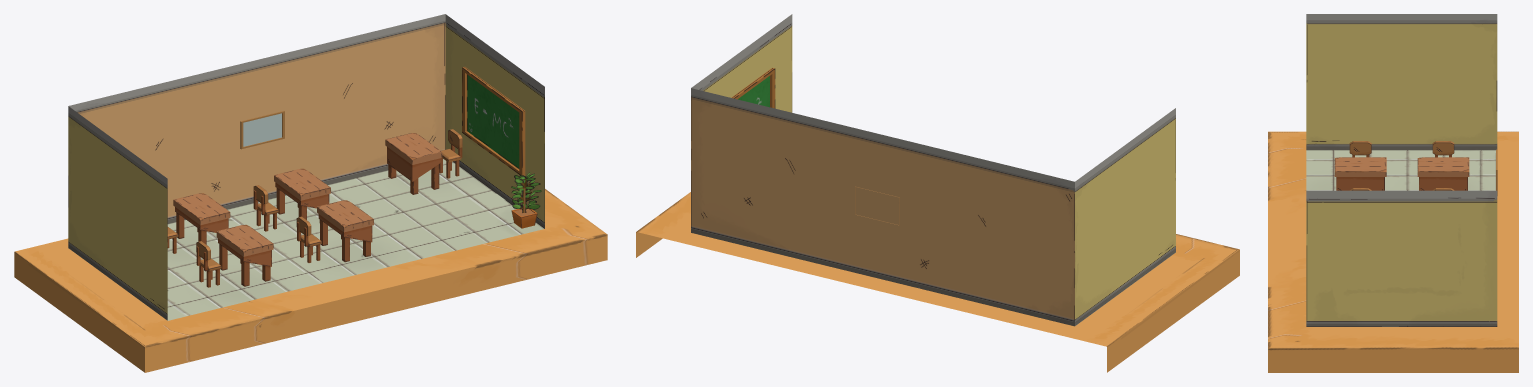
Rendered from BUILD_Inside_Class.fbx.
The picture shows the model from 3 angles, left to right: view 1: azimuth 30°, elevation 25°; view 2: azimuth 150°, elevation 25°; view 3: azimuth 270°, elevation 25°; orthographic projection. The views are drawn at different scales.
Parts seen in each view (by area): view 1: Cube.029, Cube.027, Cube.030, Cube.037, Cube.031, Cube.034, Cube.036; view 2: Cube.029, Cube.027, Cube.037; view 3: Cube.029, Cube.027, Cube.030.
Part boxes in pixels (x1,y1,x2,y2): Cube.029: (68, 14, 544, 320); Cube.027: (14, 189, 607, 372); Cube.030: (167, 168, 373, 287); Cube.037: (462, 67, 525, 175); Cube.031: (385, 129, 462, 194); Cube.034: (240, 111, 284, 149); Cube.036: (511, 172, 541, 228); Cube.029: (691, 14, 1175, 326); Cube.027: (636, 192, 1239, 372); Cube.037: (731, 67, 775, 108); Cube.029: (1306, 14, 1497, 326); Cube.027: (1268, 131, 1518, 372); Cube.030: (1334, 141, 1469, 190).
Bounding box in the file's own units: 1629 × 570 × 797.
Materials: 6 (6 with a texture image).
